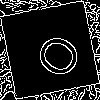O: (25, 25, 85, 83)
